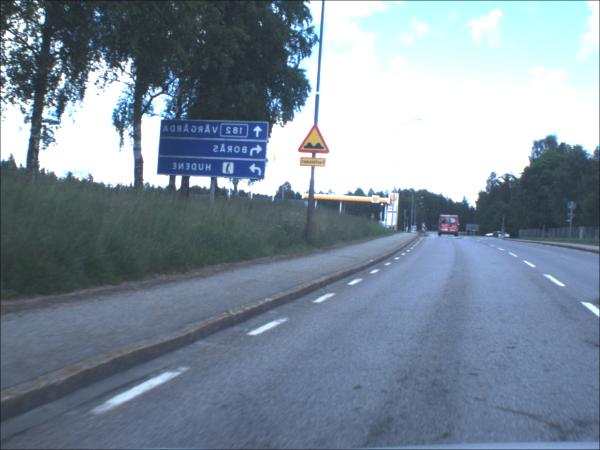WARNING: (297, 125, 330, 155)
